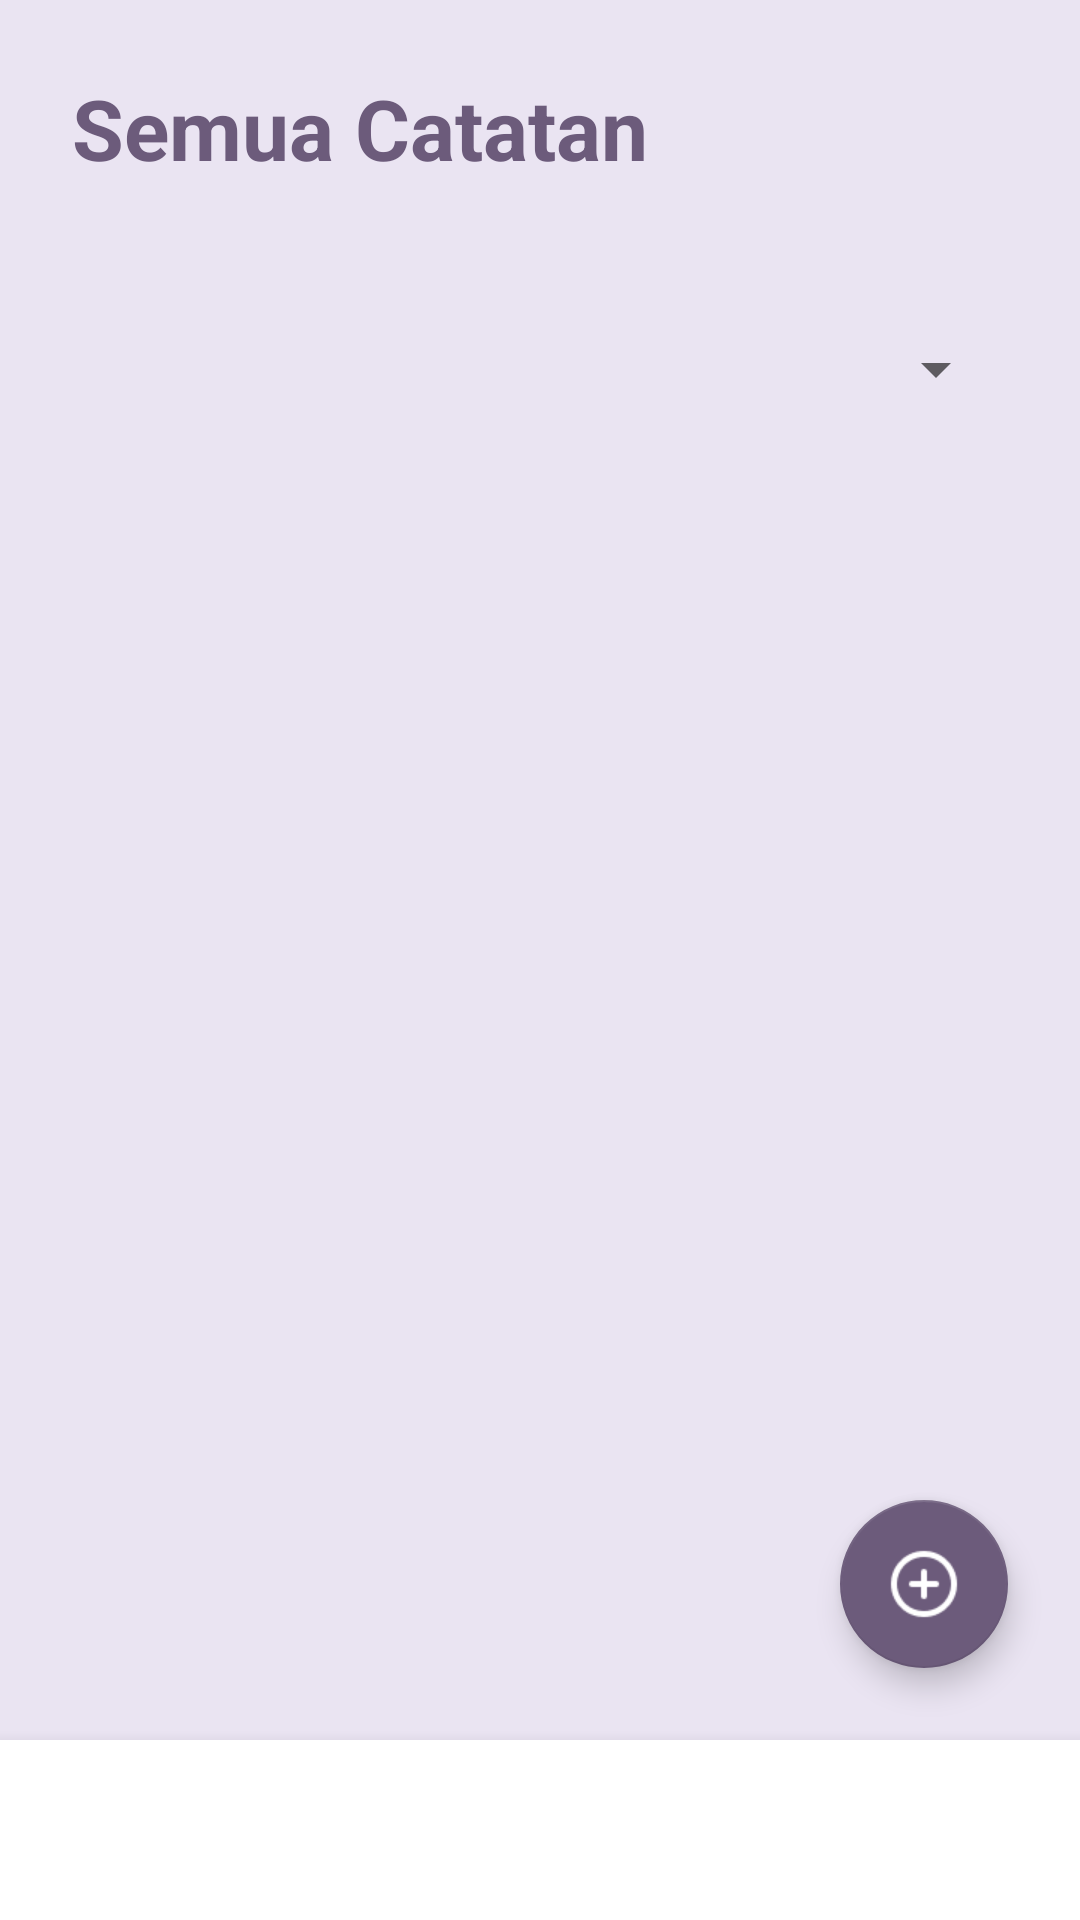

Named icons in this screenshot (1080*1920) and their centers, (x,y):
Tambah Catatan Baru: (924,1584)
